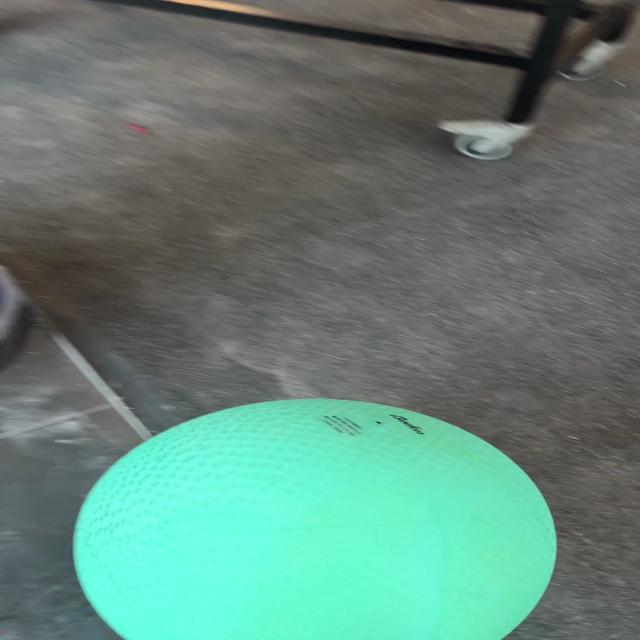Algae: (71, 396, 558, 638)
